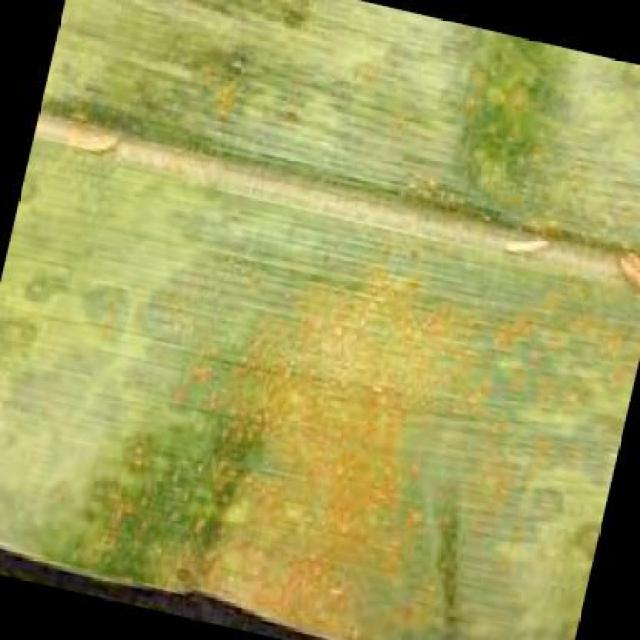Corn_Rust: (106, 150, 582, 598)
